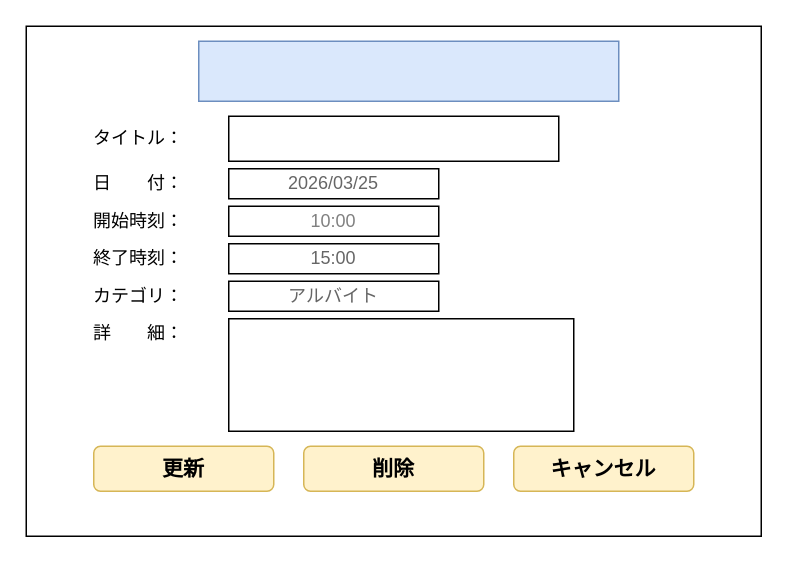
Some shapes in this 788 by 563 pixel diagram are drawn without their labels. The shapes that lost their labels are listed below. From the top down, each one's box as (x1, y1, x2, y2) in pixels, then its label:
(197, 40, 619, 101): スケジュール編集
(227, 115, 559, 161): 会場設営
(227, 317, 574, 431): 持ち物 ・筆記用具（マッキー） ・カッター ・軍手
